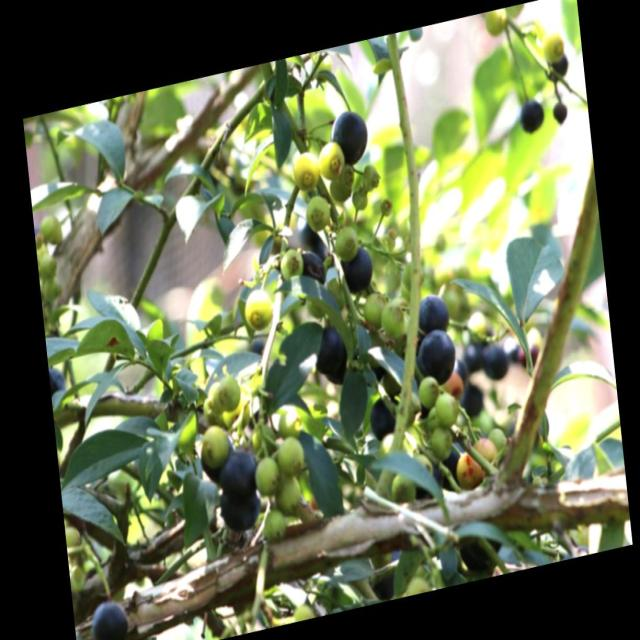blueberry: (416, 322, 455, 384), (330, 102, 370, 162), (216, 484, 264, 532), (311, 322, 349, 377), (218, 447, 258, 498), (413, 287, 451, 338), (340, 241, 374, 293), (90, 597, 130, 639), (368, 393, 399, 442), (518, 97, 546, 135)
blueberry-halfripe: (454, 447, 486, 489), (470, 434, 500, 471)
blueberry-unripe: (198, 422, 230, 472), (290, 145, 322, 195), (272, 470, 302, 518), (315, 138, 348, 181), (242, 286, 273, 331), (538, 24, 566, 70), (251, 454, 281, 496), (304, 191, 332, 236), (432, 388, 461, 431), (478, 6, 511, 43), (276, 432, 304, 475), (258, 504, 287, 544), (426, 422, 456, 460), (388, 469, 418, 507), (277, 244, 305, 284), (377, 299, 405, 338), (333, 223, 361, 262), (216, 371, 242, 412), (416, 370, 440, 409), (361, 290, 387, 326), (203, 377, 223, 416), (349, 182, 372, 215), (359, 162, 380, 194), (484, 425, 508, 452), (377, 195, 394, 218)
